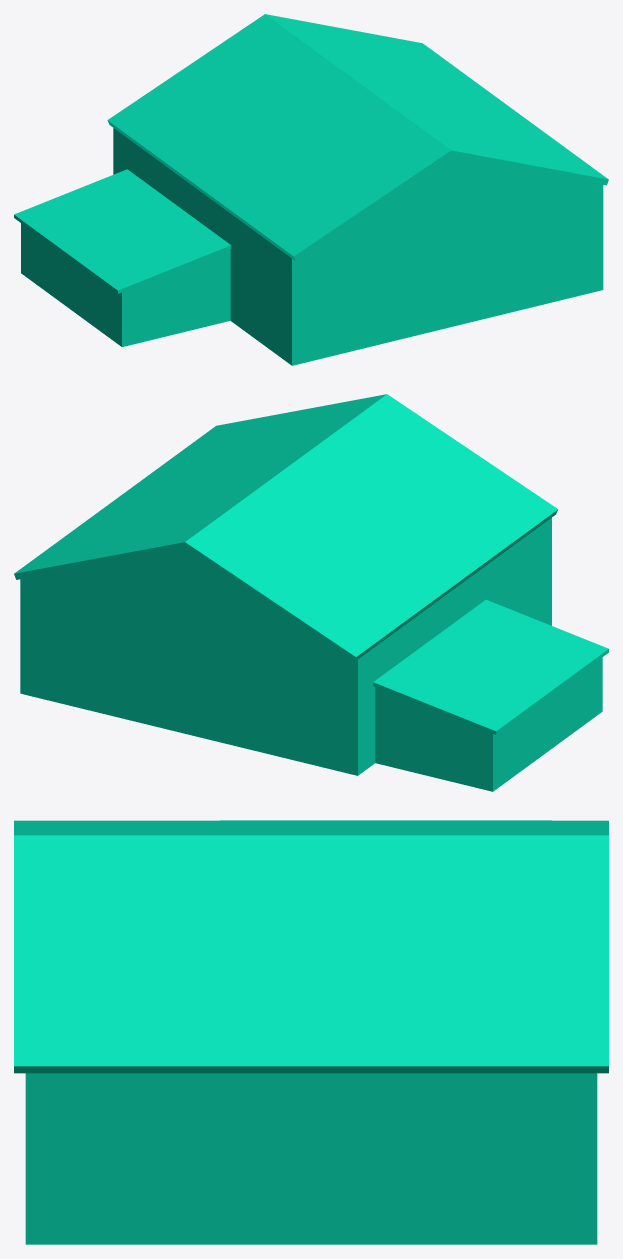
The model's file is House_2.fbx.
The picture shows the model from 3 angles, top to bottom: view 1: azimuth 30°, elevation 25°; view 2: azimuth 150°, elevation 25°; view 3: azimuth 270°, elevation 25°; orthographic projection. The views are drawn at different scales.
Visible parts, largest first — view 1: House_2; view 2: House_2; view 3: House_2.
Part boxes in pixels (bbox=[...]): House_2: bbox=[14, 14, 608, 365]; House_2: bbox=[14, 394, 608, 791]; House_2: bbox=[14, 820, 608, 1244].
Size of the model in its own units: 879 by 355 by 665.
